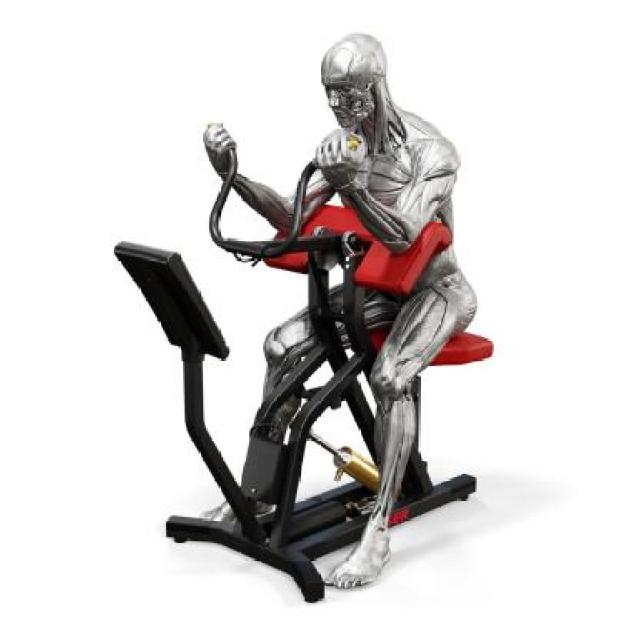arm curl machine: (116, 123, 496, 603)
